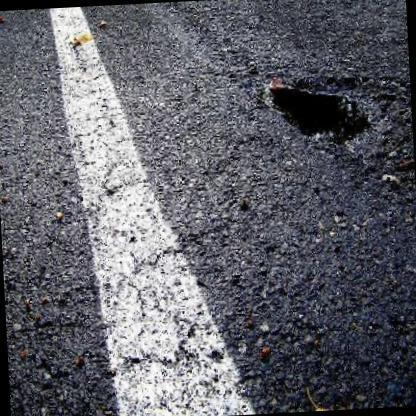pothole: (262, 70, 396, 166)
